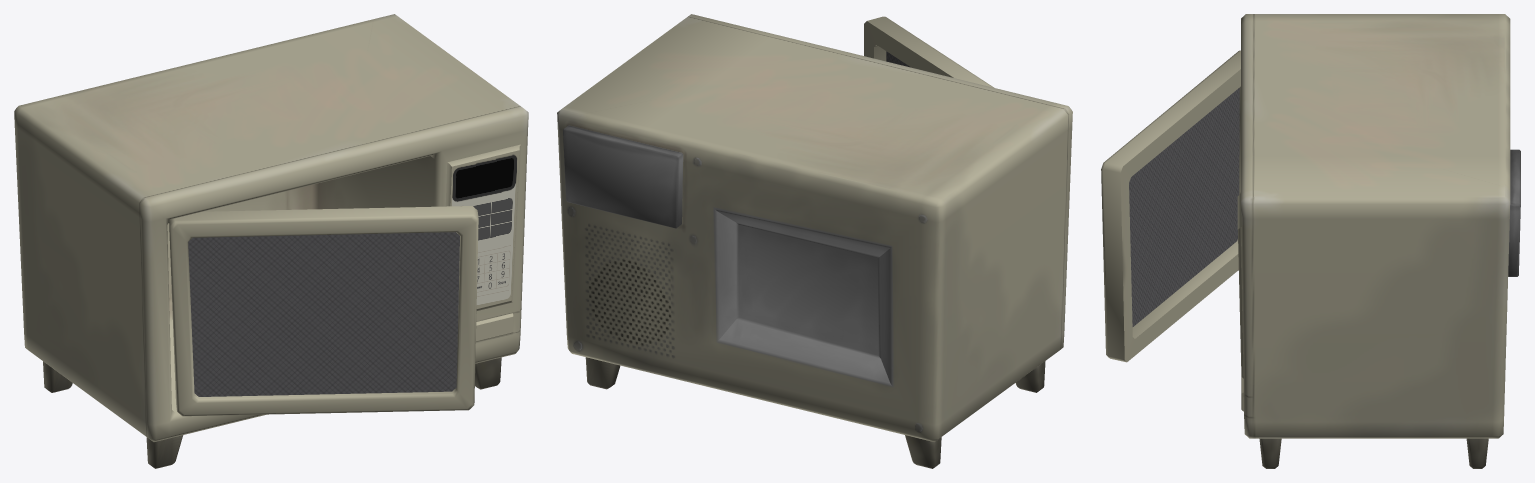
The model's file is PRP_Microwave.fbx.
3 views of the same model, side by side, from view 1: azimuth 30°, elevation 25°; view 2: azimuth 150°, elevation 25°; view 3: azimuth 270°, elevation 25° (orthographic).
Parts seen in each view (by area): view 1: Cube.008, Cube.009; view 2: Cube.008, Cube.009; view 3: Cube.008, Cube.009.
Part boxes in pixels (x1,y1,x2,y2): Cube.008: (14, 14, 528, 468); Cube.009: (169, 206, 478, 416); Cube.008: (557, 14, 1072, 468); Cube.009: (864, 16, 994, 87); Cube.008: (1237, 14, 1520, 468); Cube.009: (1101, 50, 1240, 362).
Bounding box in the file's own units: 529 × 368 × 500.
2 materials, 2 textured.
